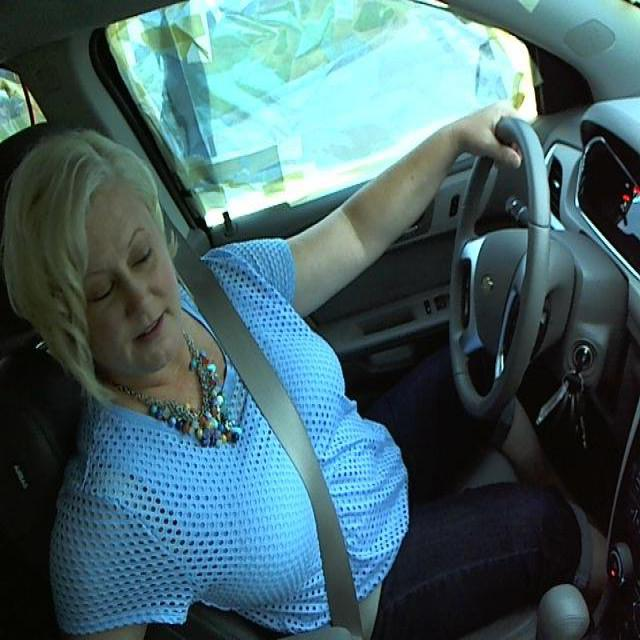seatbelt: (178, 281, 377, 624)
